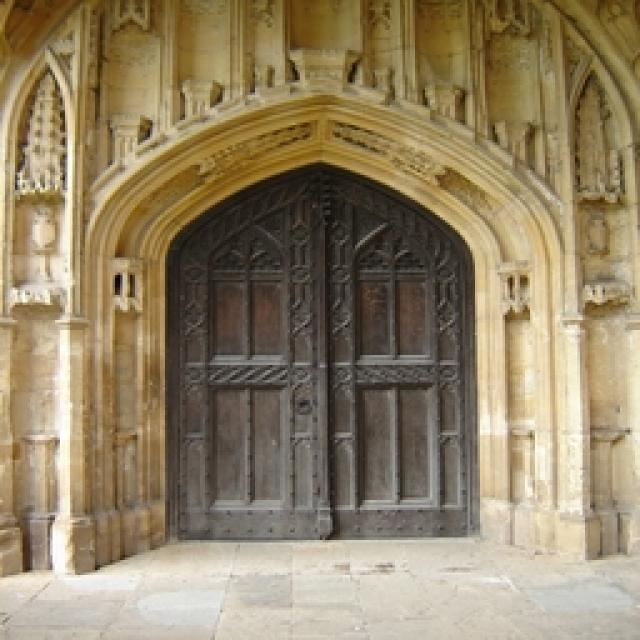Abbey: (93, 88, 587, 572)
